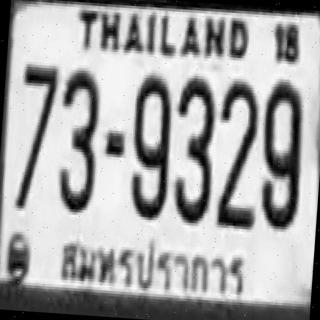N02: (213, 76, 262, 226)
N03: (169, 73, 217, 222), (54, 66, 100, 210)
N07: (12, 61, 58, 208)
N09: (256, 78, 305, 228), (126, 72, 174, 218)
P57: (51, 229, 252, 310)
